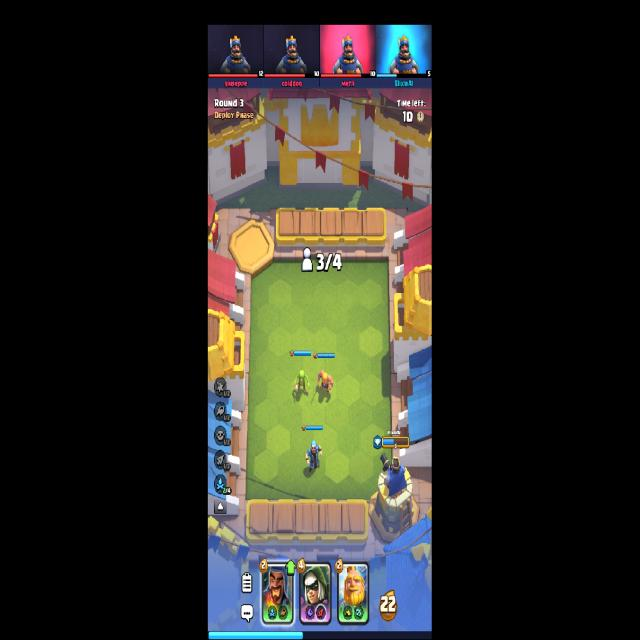barbarian: (312, 371, 334, 401)
card_bandit: (299, 560, 331, 625)
card_royal_giant: (337, 562, 369, 625)
card_wizard: (261, 559, 294, 625)
goblin: (294, 369, 310, 394)
wizard: (306, 440, 322, 473)
